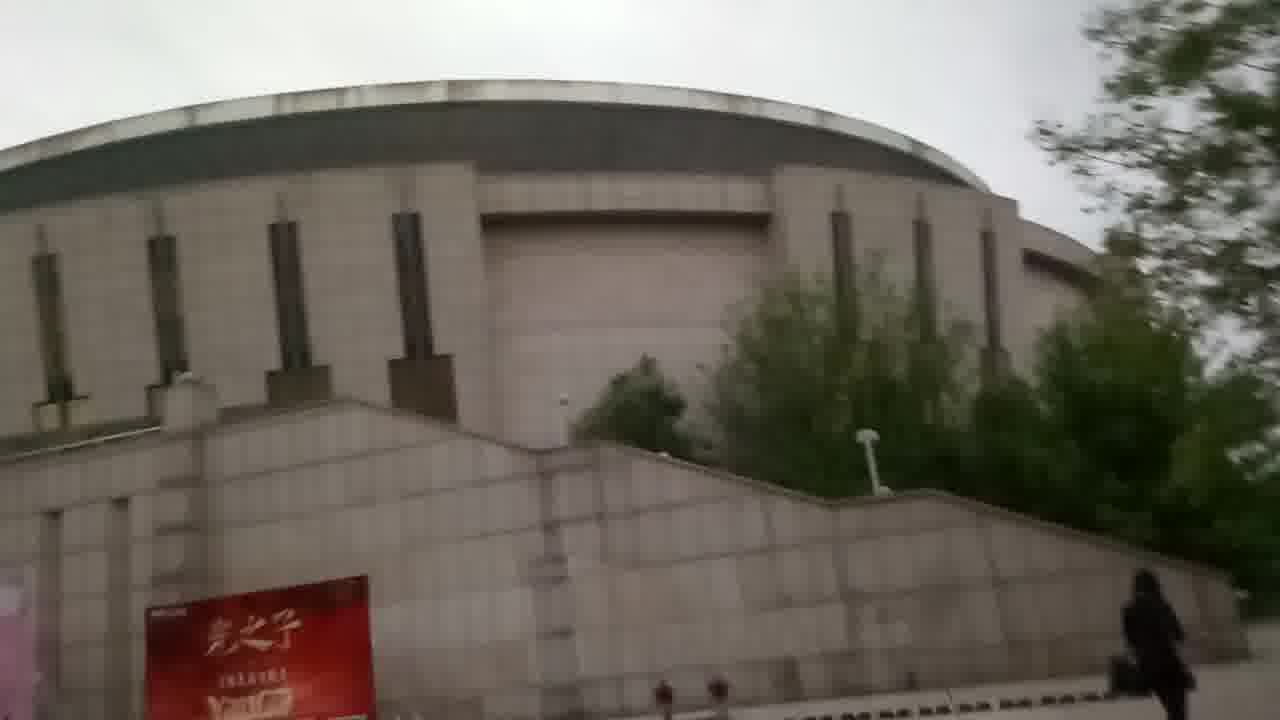zhongtiww: (3, 72, 1250, 720)
